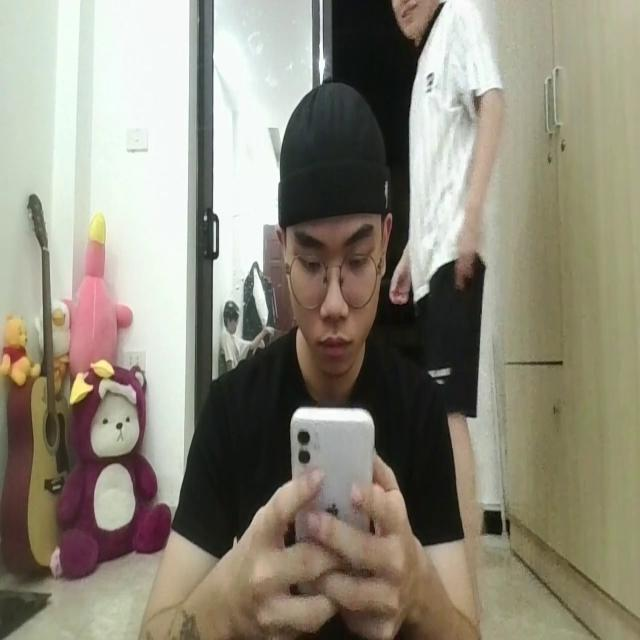extra_person: (393, 0, 494, 486)
phone: (288, 389, 376, 590)
student: (148, 77, 474, 640)
